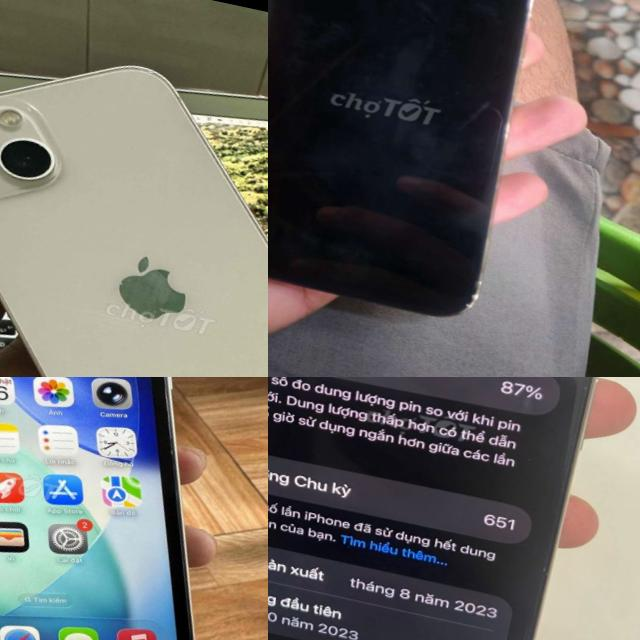gen_11: (0, 377, 193, 640)
gen_12_13: (268, 0, 560, 329), (0, 23, 268, 377)
gen_15: (268, 377, 640, 640)
